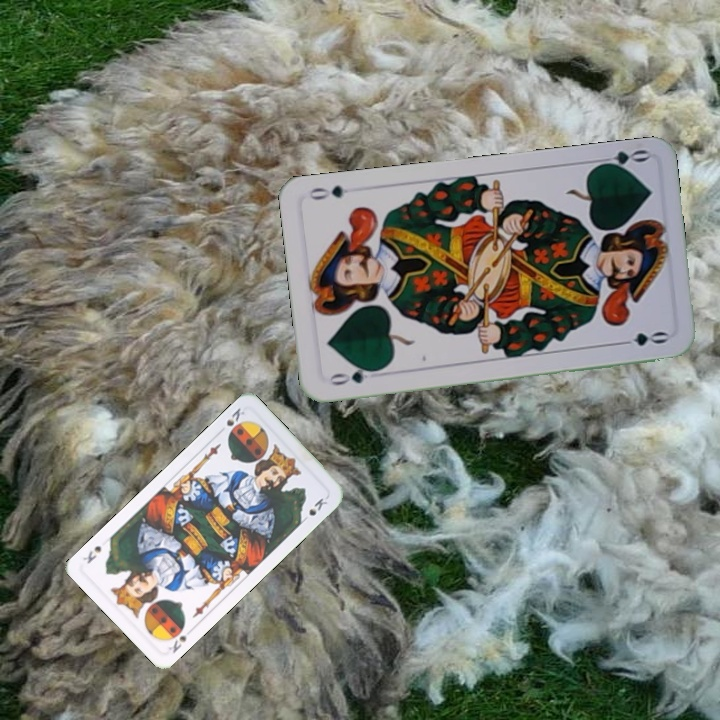GO: (591, 145, 650, 174), (323, 363, 382, 388)
SK: (164, 620, 196, 656), (214, 404, 247, 436)
